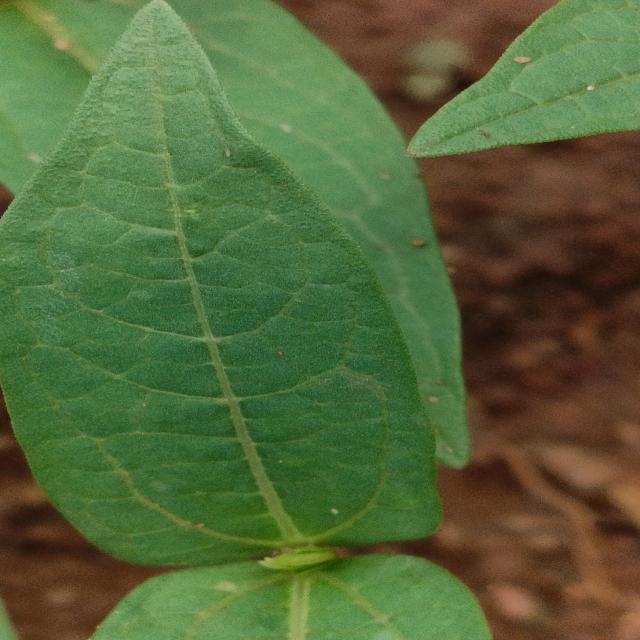Black gram_healthy: (0, 0, 435, 571), (396, 0, 640, 153)
